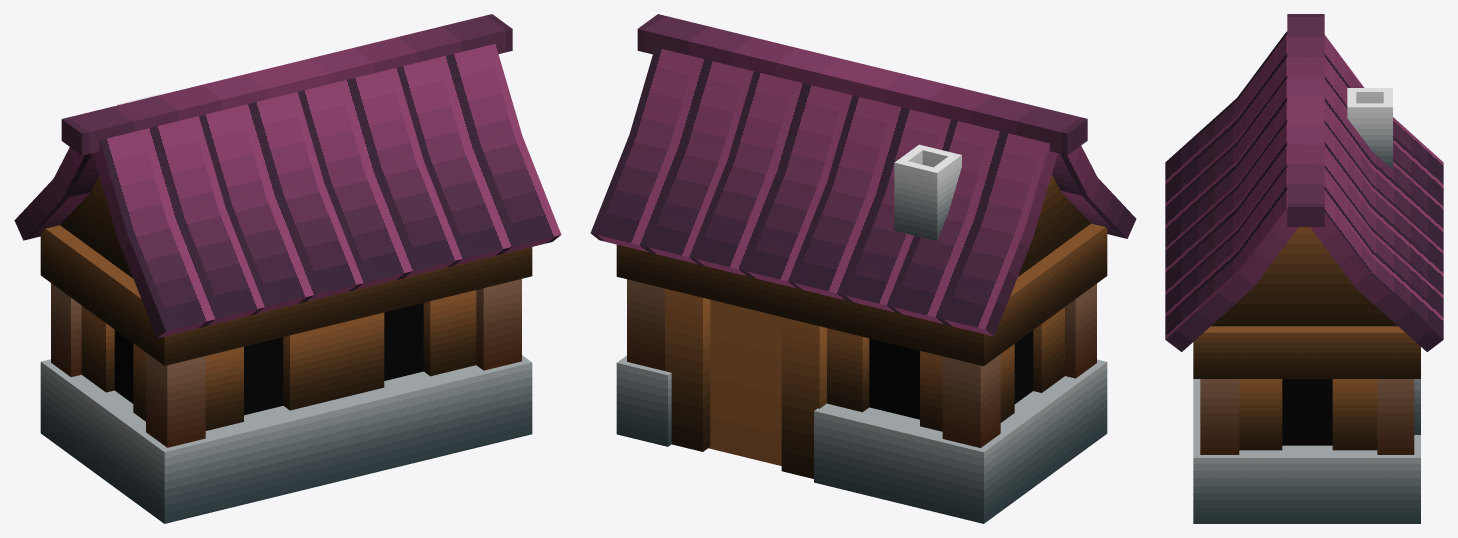
File: house_lvl4.fbx
The picture shows the model from 3 angles, left to right: view 1: azimuth 30°, elevation 25°; view 2: azimuth 150°, elevation 25°; view 3: azimuth 270°, elevation 25°; orthographic projection. The views are drawn at different scales.
Parts seen in each view (by area): view 1: house_lvl4; view 2: house_lvl4; view 3: house_lvl4.
Boxes of the visible parts, x1,y1,x2,y2 form: house_lvl4: [14, 14, 561, 523]; house_lvl4: [590, 14, 1136, 523]; house_lvl4: [1165, 14, 1443, 523].
Size of the model in its own units: 1256 by 1010 by 765.
